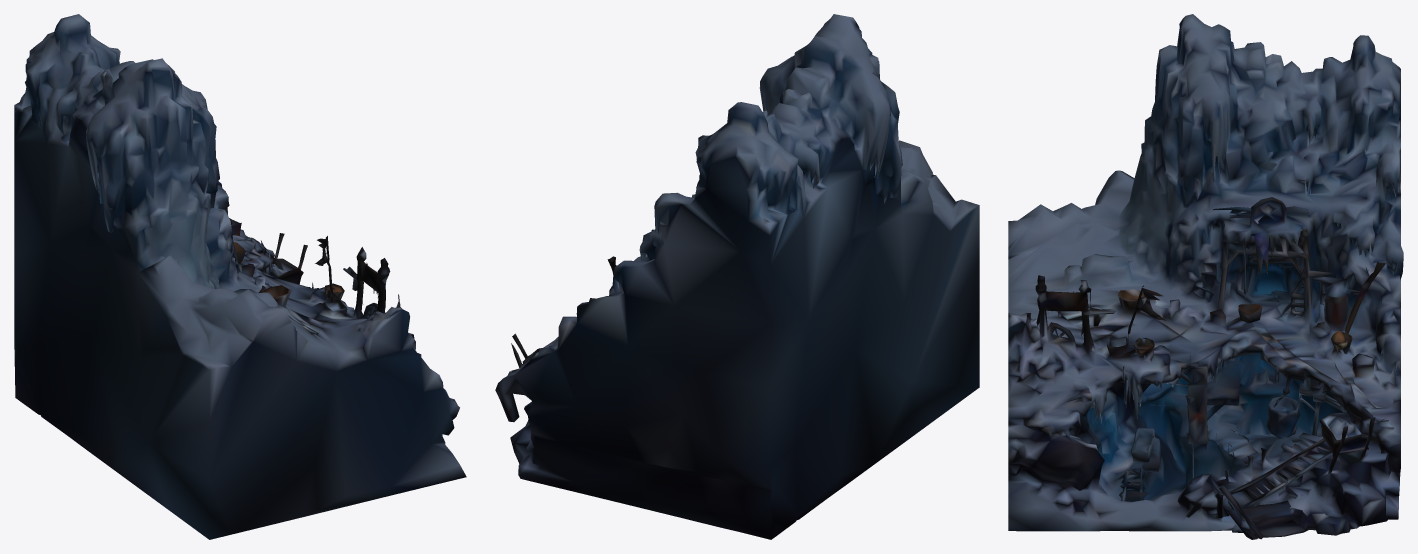
The model's file is step_1_navigation_surface_frozen_mine.obj.
The picture shows the model from 3 angles, left to right: view 1: azimuth 30°, elevation 25°; view 2: azimuth 150°, elevation 25°; view 3: azimuth 270°, elevation 25°; orthographic projection. The views are drawn at different scales.
Bounding box in the file's own units: 0.7492 × 0.9832 × 0.8667.
